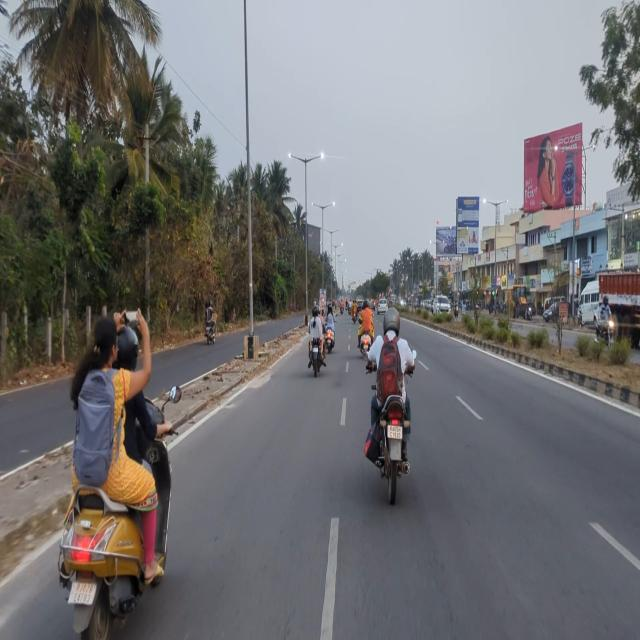bien_cam: (388, 285, 393, 294), (381, 290, 385, 296), (379, 291, 381, 297)
